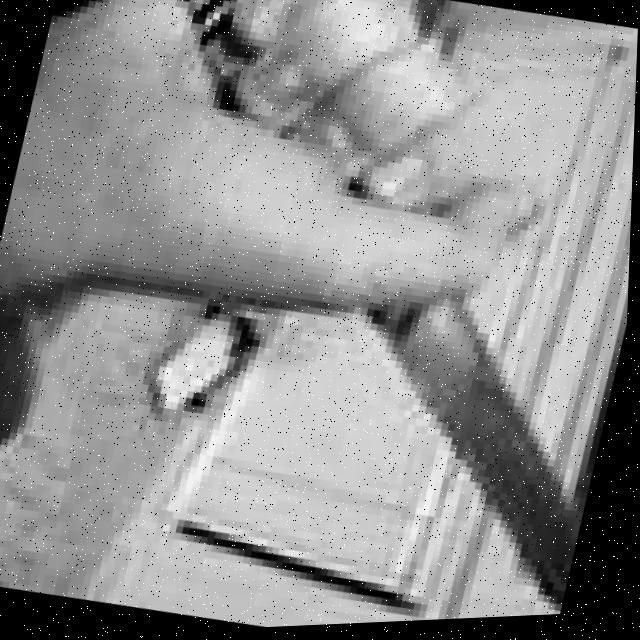knife: (333, 269, 632, 628)
